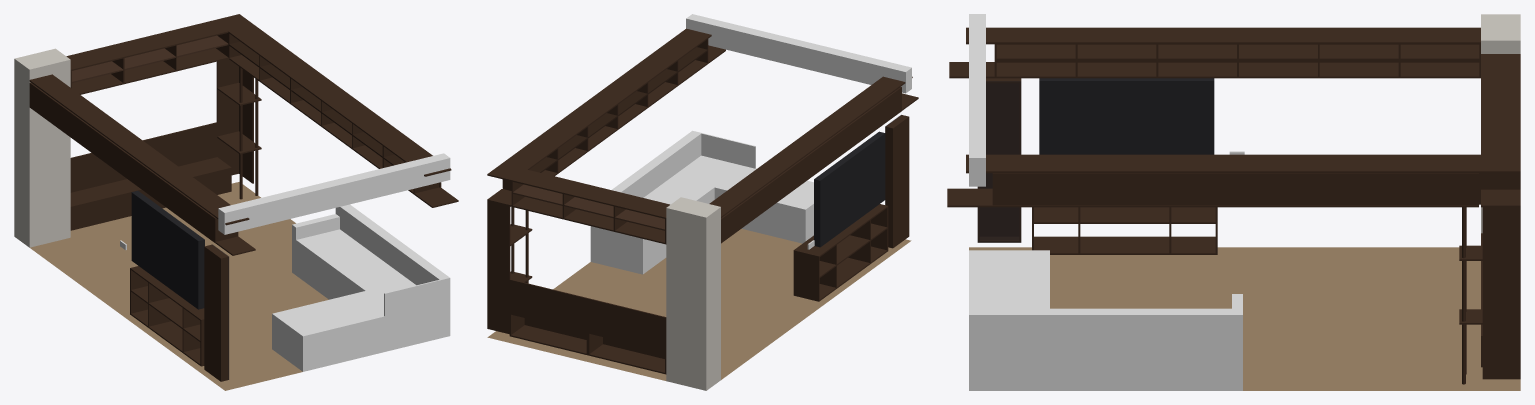
Rendered from living-room.glb.
3 views of the same model, side by side, from view 1: azimuth 30°, elevation 25°; view 2: azimuth 150°, elevation 25°; view 3: azimuth 270°, elevation 25° (orthographic). The views are drawn at different scales.
Parts seen in each view (by area): view 1: Floor, chimney_wall, beam_living_room, TV_Screen, Cube.001, Cube.007, Cube.008, backplate_right, Cube.046, drawerBox_back, Cube.022, drawerBox_top (+34 smaller); view 2: Floor, chimney_wall, beam_living_room, Cube.046, TV_Screen, Cube.001, Cube.007, Cube.008, Cube.027, Cube.022, Cube.049, Cube.023 (+25 smaller); view 3: Floor, backplate_back, Cube, TV_Screen, Cube.001, Cube.008, Cube.003, Cube.025, Cube.022, drawerBox_top, Door_Joystick, Cube.042 (+18 smaller).
Part boxes in pixels (left/top/right/bottom): Floor: left=30, top=182, right=328, bottom=390; chimney_wall: left=14, top=48, right=70, bottom=247; beam_living_room: left=218, top=153, right=450, bottom=234; TV_Screen: left=131, top=190, right=204, bottom=309; Cube.001: left=228, top=25, right=451, bottom=176; Cube.007: left=29, top=82, right=216, bottom=243; Cube.008: left=29, top=74, right=249, bottom=225; backplate_right: left=384, top=277, right=450, bottom=351; Cube.046: left=70, top=122, right=217, bottom=192; drawerBox_back: left=302, top=316, right=384, bottom=371; Cube.022: left=66, top=14, right=253, bottom=70; drawerBox_top: left=274, top=291, right=383, bottom=335; Floor: left=487, top=228, right=911, bottom=380; chimney_wall: left=666, top=197, right=720, bottom=390; beam_living_room: left=686, top=14, right=911, bottom=93; Cube.046: left=509, top=279, right=666, bottom=350; TV_Screen: left=814, top=131, right=885, bottom=247; Cube.001: left=502, top=28, right=711, bottom=169; Cube.007: left=721, top=87, right=901, bottom=243; Cube.008: left=709, top=76, right=912, bottom=217; Cube.027: left=488, top=202, right=510, bottom=334; Cube.022: left=487, top=163, right=669, bottom=218; Cube.049: left=509, top=325, right=666, bottom=374; Cube.023: left=487, top=189, right=666, bottom=244; Floor: left=969, top=247, right=1520, bottom=390; backplate_back: left=971, top=314, right=1242, bottom=390; Cube: left=992, top=173, right=1478, bottom=205; TV_Screen: left=1039, top=78, right=1214, bottom=154; Cube.001: left=966, top=154, right=1480, bottom=173; Cube.008: left=966, top=27, right=1480, bottom=44; Cube.003: left=949, top=62, right=1480, bottom=78; Cube.025: left=1482, top=209, right=1520, bottom=379; Cube.022: left=1481, top=54, right=1520, bottom=173; drawerBox_top: left=971, top=251, right=1047, bottom=308; Door_Joystick: left=978, top=81, right=1020, bottom=242; Cube.042: left=979, top=83, right=1019, bottom=236.
Bounding box in the file's own units: 3.46 × 2.6 × 5.8.
